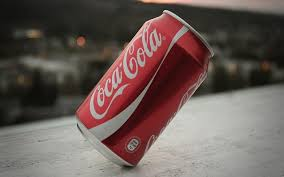coke-can: (73, 11, 215, 166)
